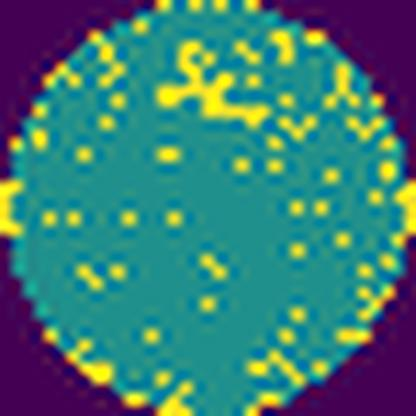Loc: (158, 38, 274, 126)
